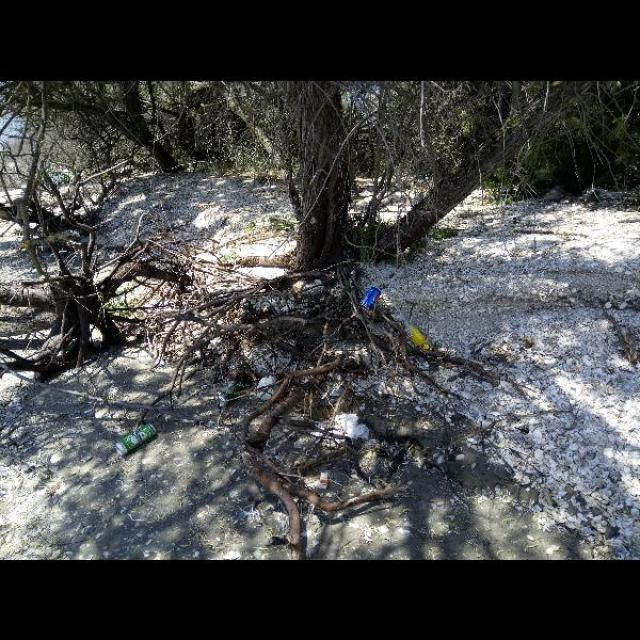others: (101, 415, 175, 476)
plastic_waste: (347, 273, 444, 366)
